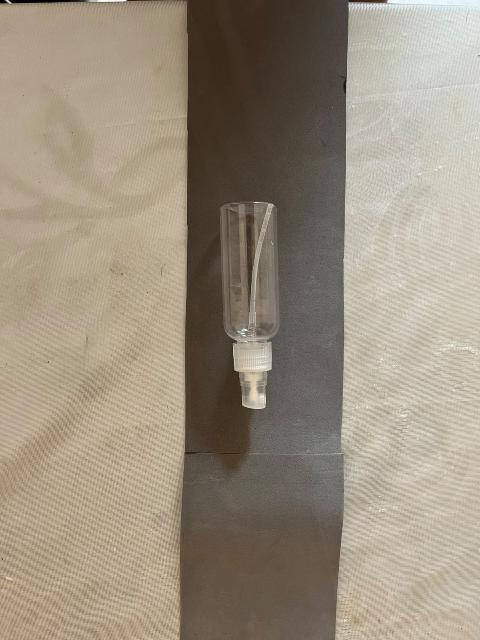PET: (165, 168, 371, 451)
